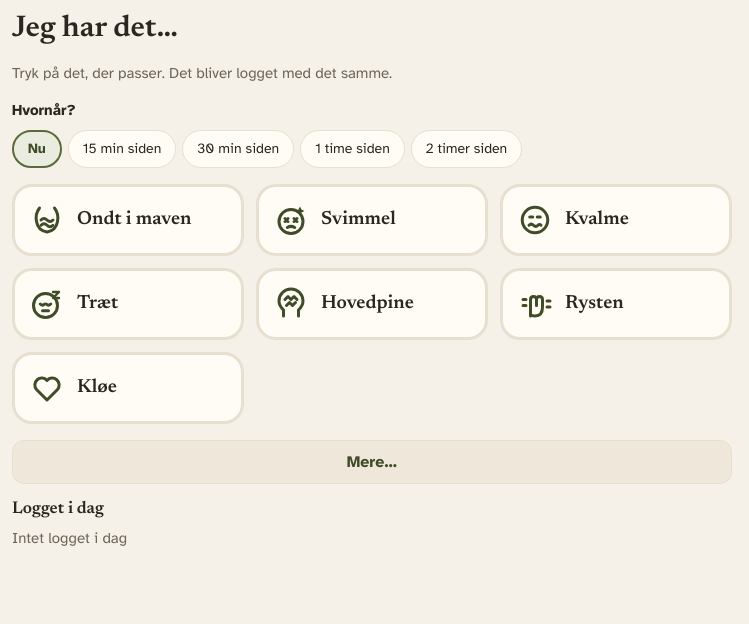
Jeg har det… (the picker, plan §5) › says it could not be saved and keeps the tiles when the route refuses
The image size is (749, 624).
Click the button "Rysten": (616, 304) x1=500 y1=268 x2=732 y2=340
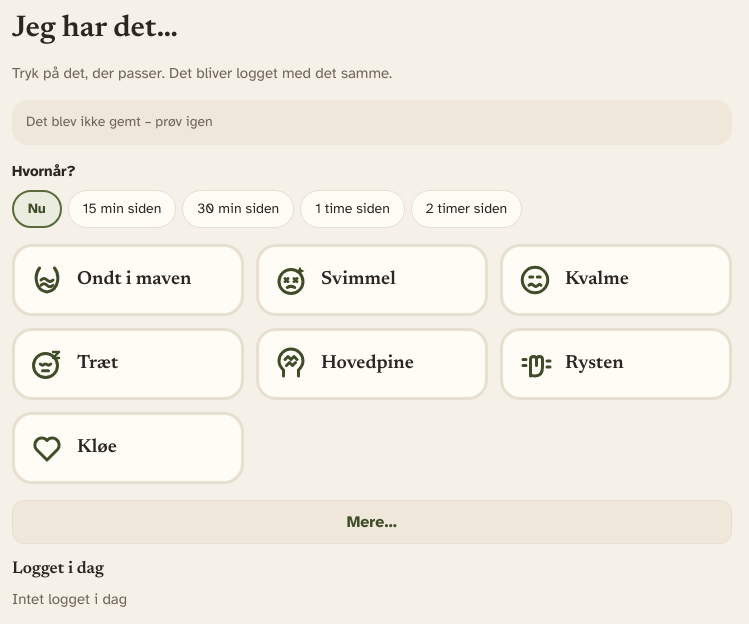
Now the message reads "Det blev ikke gemt – prøv igen", box x1=26 y1=113 x2=213 y2=130
